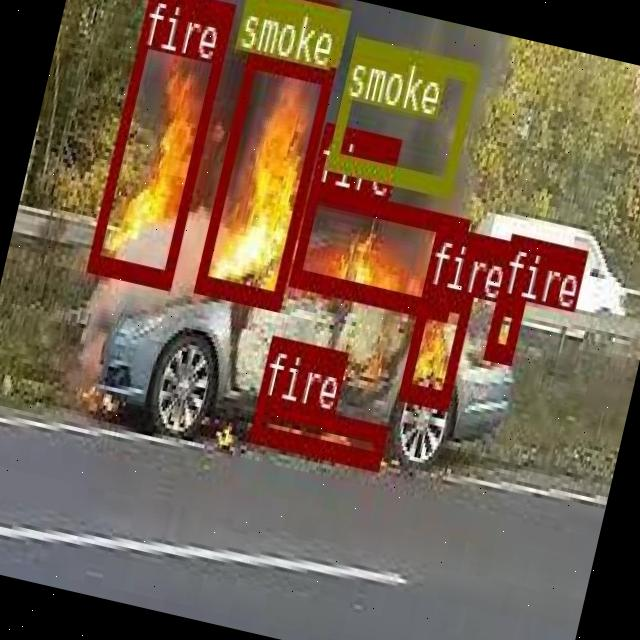fire: (86, 0, 234, 284), (193, 48, 333, 307), (288, 183, 468, 318), (248, 394, 386, 466), (396, 284, 471, 404), (482, 291, 524, 361)
smoke: (324, 36, 478, 194), (235, 0, 348, 62)
